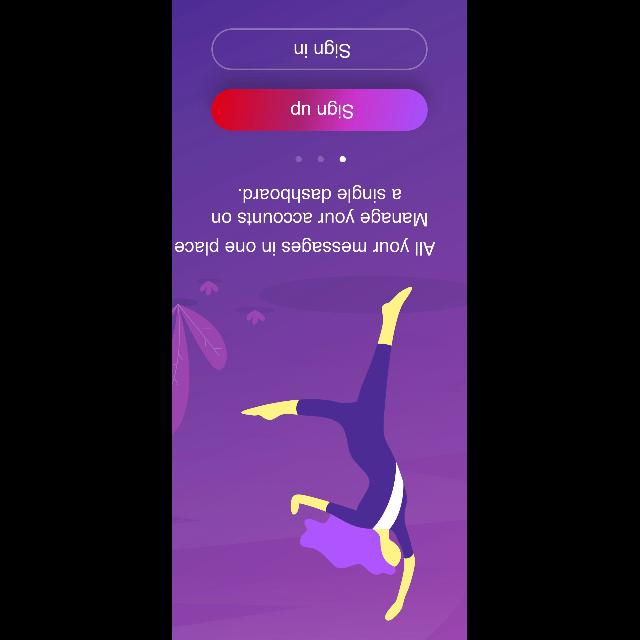image: (172, 273, 468, 621)
pageindicator: (296, 156, 346, 162)
text: (175, 184, 437, 256)
textbutton: (212, 89, 428, 131), (212, 28, 428, 70)
